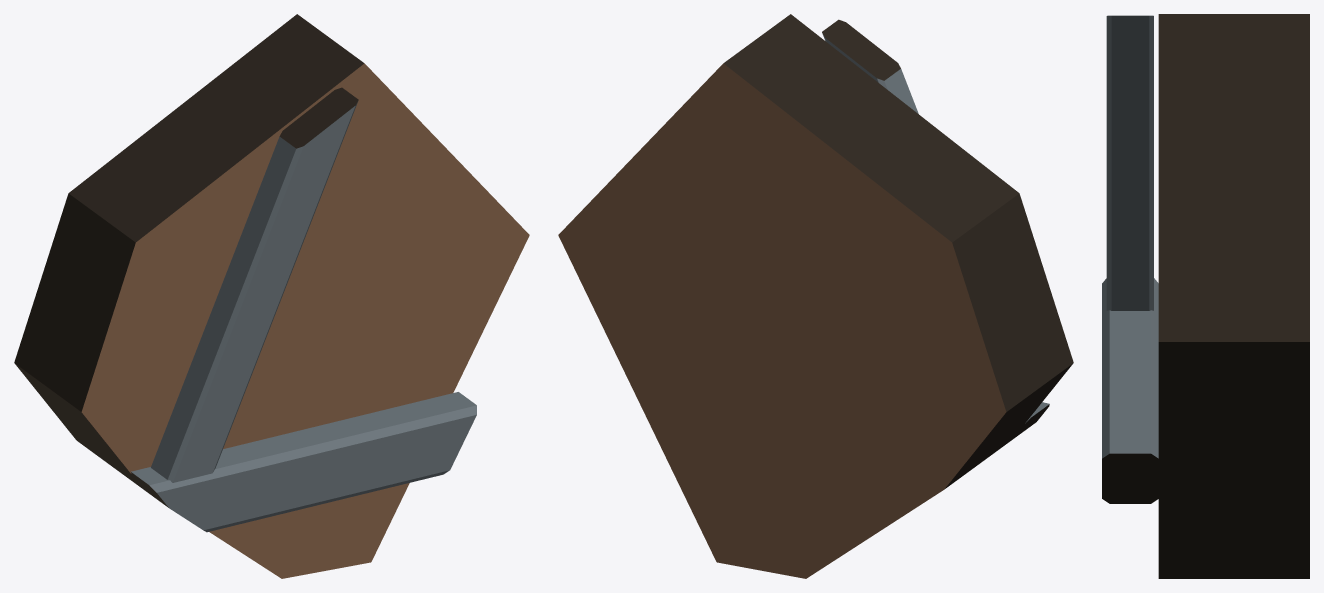
File: SM_DoorShard_01_08.fbx
3 renders of one model, left to right at view 1: azimuth 30°, elevation 25°; view 2: azimuth 150°, elevation 25°; view 3: azimuth 270°, elevation 25°, orthographic. The views are drawn at different scales.
Visible parts, largest first — view 1: SM_DoorShard_01_08; view 2: SM_DoorShard_01_08; view 3: SM_DoorShard_01_08.
Part boxes in pixels (left/top/right/bottom): SM_DoorShard_01_08: left=14, top=14, right=529, bottom=578; SM_DoorShard_01_08: left=558, top=14, right=1073, bottom=578; SM_DoorShard_01_08: left=1102, top=14, right=1309, bottom=578.
Bounding box in the file's own units: 61.43 × 22 × 65.57.
